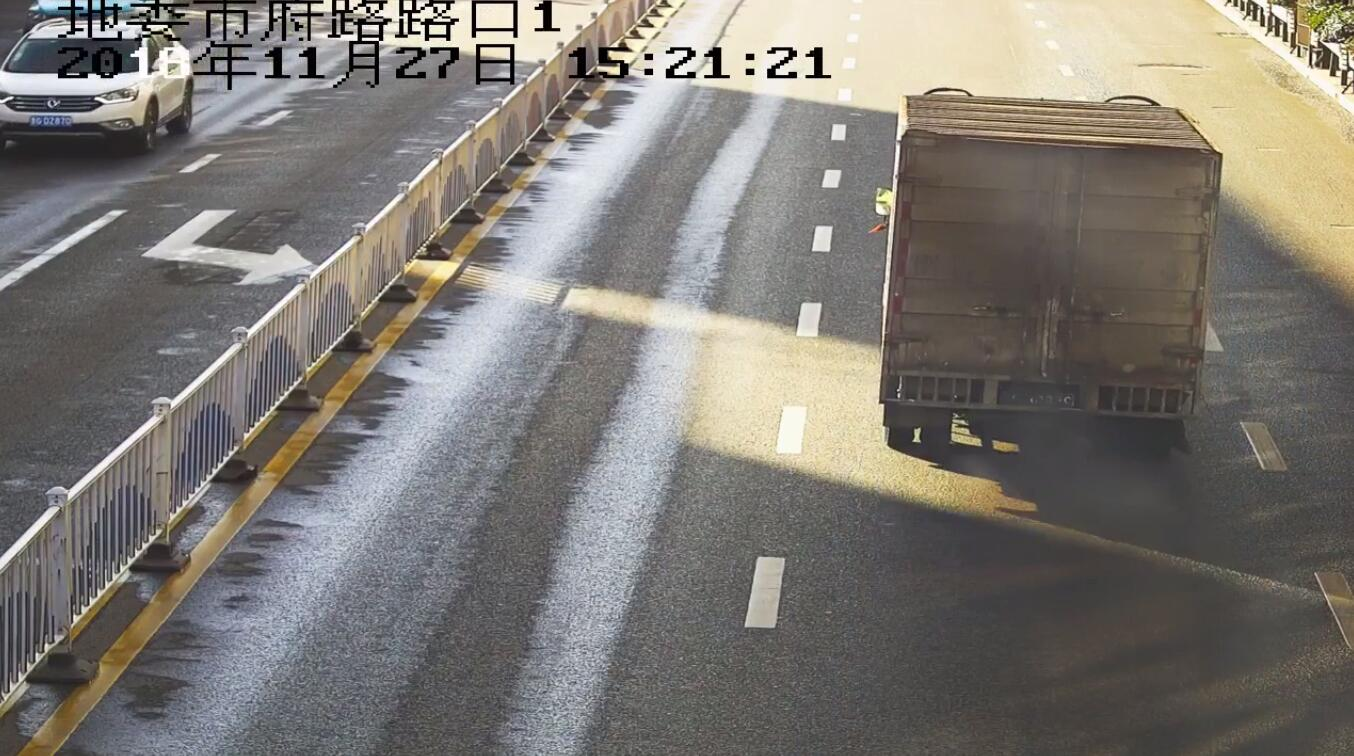smoke: (993, 423, 1192, 540)
